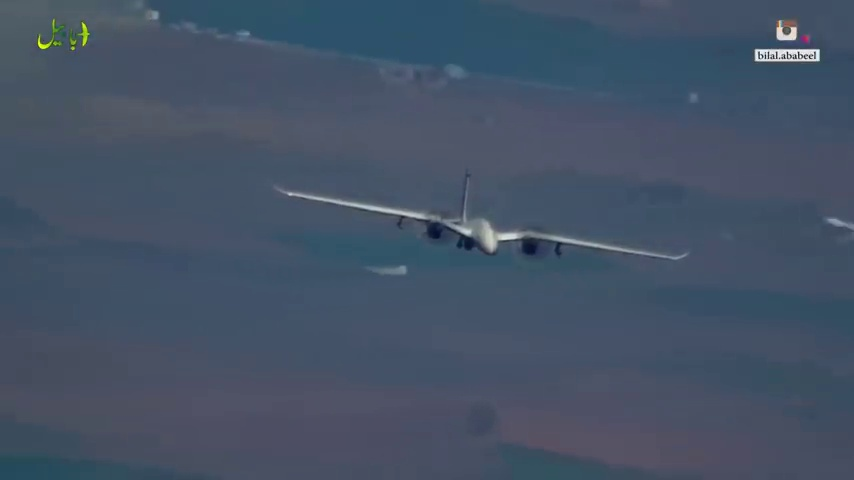military drone: (272, 171, 690, 261)
